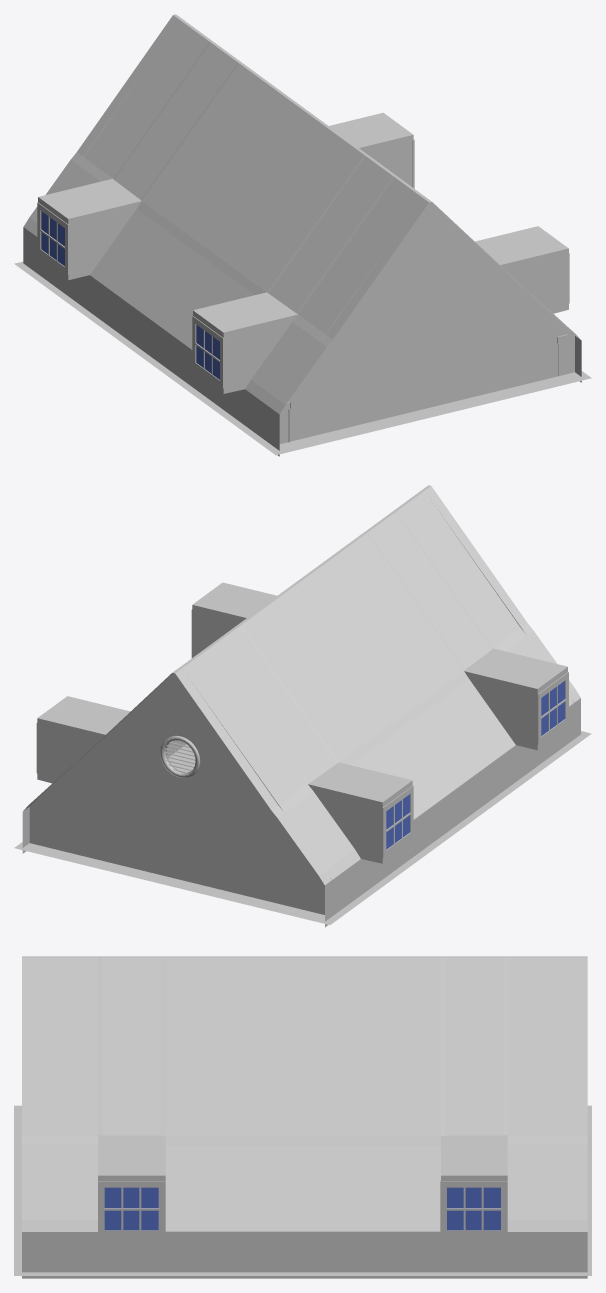
File: Attic.fbx
3 views of the same model, one above another, from view 1: azimuth 30°, elevation 25°; view 2: azimuth 150°, elevation 25°; view 3: azimuth 270°, elevation 25° (orthographic). The views are drawn at different scales.
Visible parts, largest first — view 1: Cube.002, Cube.003, Cube.004, Cube.000; view 2: Cube.002, Cube.003, Cube.004, Cube.000, Cube.005; view 3: Cube.002, Cube.000, Cube.004.
Part boxes in pixels (x1,y1,x2,y2): Cube.002: (23,14,581,456); Cube.003: (30,46,574,443); Cube.004: (14,261,591,455); Cube.000: (37,139,569,388); Cube.002: (22,485,580,927); Cube.003: (29,513,573,914); Cube.004: (14,731,591,924); Cube.000: (36,609,568,857); Cube.005: (160,735,200,778); Cube.002: (22,956,587,1278); Cube.000: (98,1180,507,1236); Cube.004: (14,1105,591,1275).
Bounding box in the file's own units: 2123 × 1272 × 2772.
